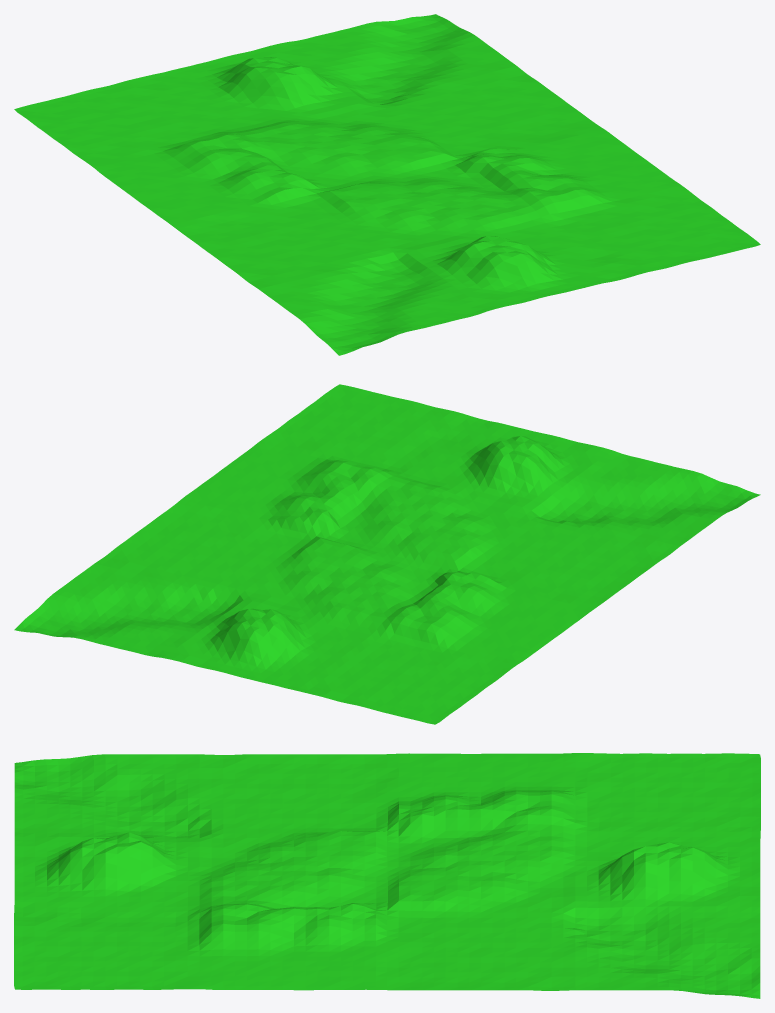
File: Terrain#2.fbx
The picture shows the model from 3 angles, top to bottom: view 1: azimuth 30°, elevation 25°; view 2: azimuth 150°, elevation 25°; view 3: azimuth 270°, elevation 25°; orthographic projection. The views are drawn at different scales.
Visible parts, largest first — view 1: Plane; view 2: Plane; view 3: Plane.
Boxes of the visible parts, bbox=[...] form: Plane: bbox=[14, 14, 760, 355]; Plane: bbox=[14, 384, 760, 724]; Plane: bbox=[14, 753, 760, 998].
Bounding box in the file's own units: 14855 × 1041 × 19844.
